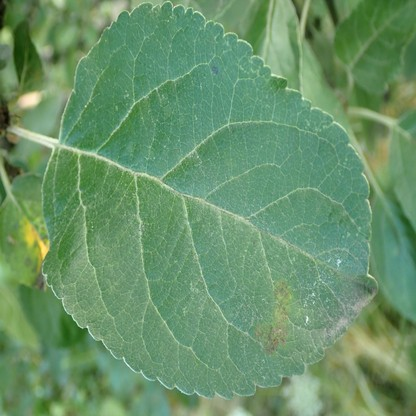powdery_mildew: (318, 289, 376, 346)
scab: (254, 277, 292, 355)
